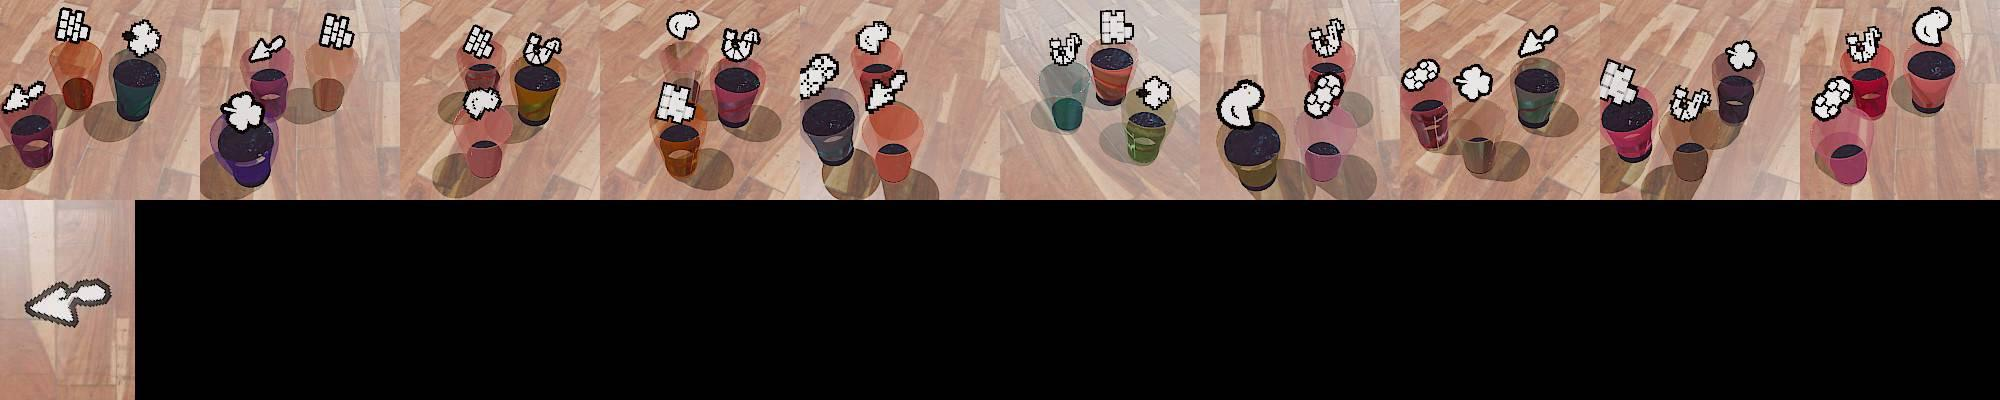icon: (24, 278, 116, 327), (1216, 78, 1264, 128), (796, 51, 840, 100), (654, 79, 700, 125), (1302, 71, 1344, 118), (220, 90, 267, 132), (864, 69, 908, 113), (1597, 58, 1639, 103), (1812, 75, 1852, 120), (1911, 6, 1953, 48), (0, 80, 48, 113), (1308, 17, 1346, 58), (1453, 63, 1494, 101), (1669, 84, 1710, 122), (318, 12, 357, 51), (122, 19, 162, 57), (720, 26, 762, 62), (522, 31, 563, 67), (1517, 24, 1559, 59), (1847, 25, 1884, 64), (1135, 73, 1174, 109), (461, 86, 502, 120), (55, 7, 92, 44), (856, 20, 893, 56), (1099, 8, 1134, 44), (1401, 59, 1438, 92), (462, 23, 495, 60), (1724, 39, 1759, 72), (1048, 32, 1081, 66), (246, 34, 286, 62), (666, 10, 700, 41)
